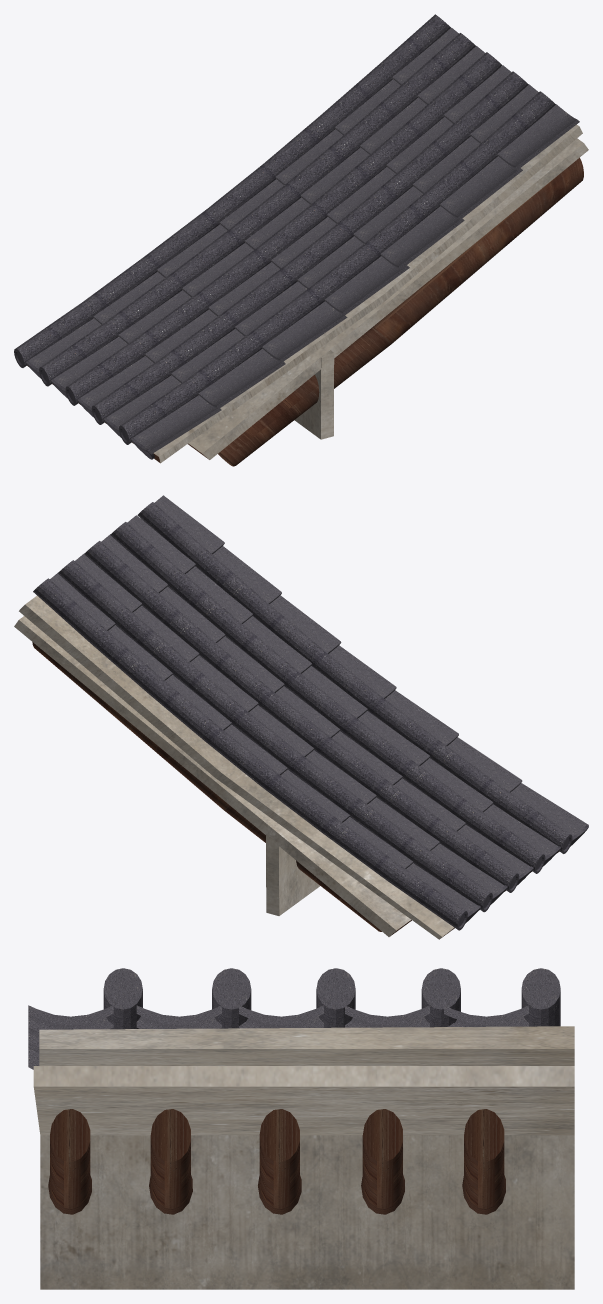
File: SM_Roof_67.fbx
The picture shows the model from 3 angles, top to bottom: view 1: azimuth 30°, elevation 25°; view 2: azimuth 150°, elevation 25°; view 3: azimuth 270°, elevation 25°; orthographic projection. The views are drawn at different scales.
Visible parts, largest first — view 1: SM_Roof_67; view 2: SM_Roof_67; view 3: SM_Roof_67.
Part boxes in pixels (x1=…): SM_Roof_67: x1=14, y1=14, x2=588, y2=466; SM_Roof_67: x1=14, y1=495, x2=588, y2=939; SM_Roof_67: x1=28, y1=968, x2=574, y2=1289.
Size of the model in its own units: 547 by 292 by 335.
Materials: 4 (4 with a texture image).
